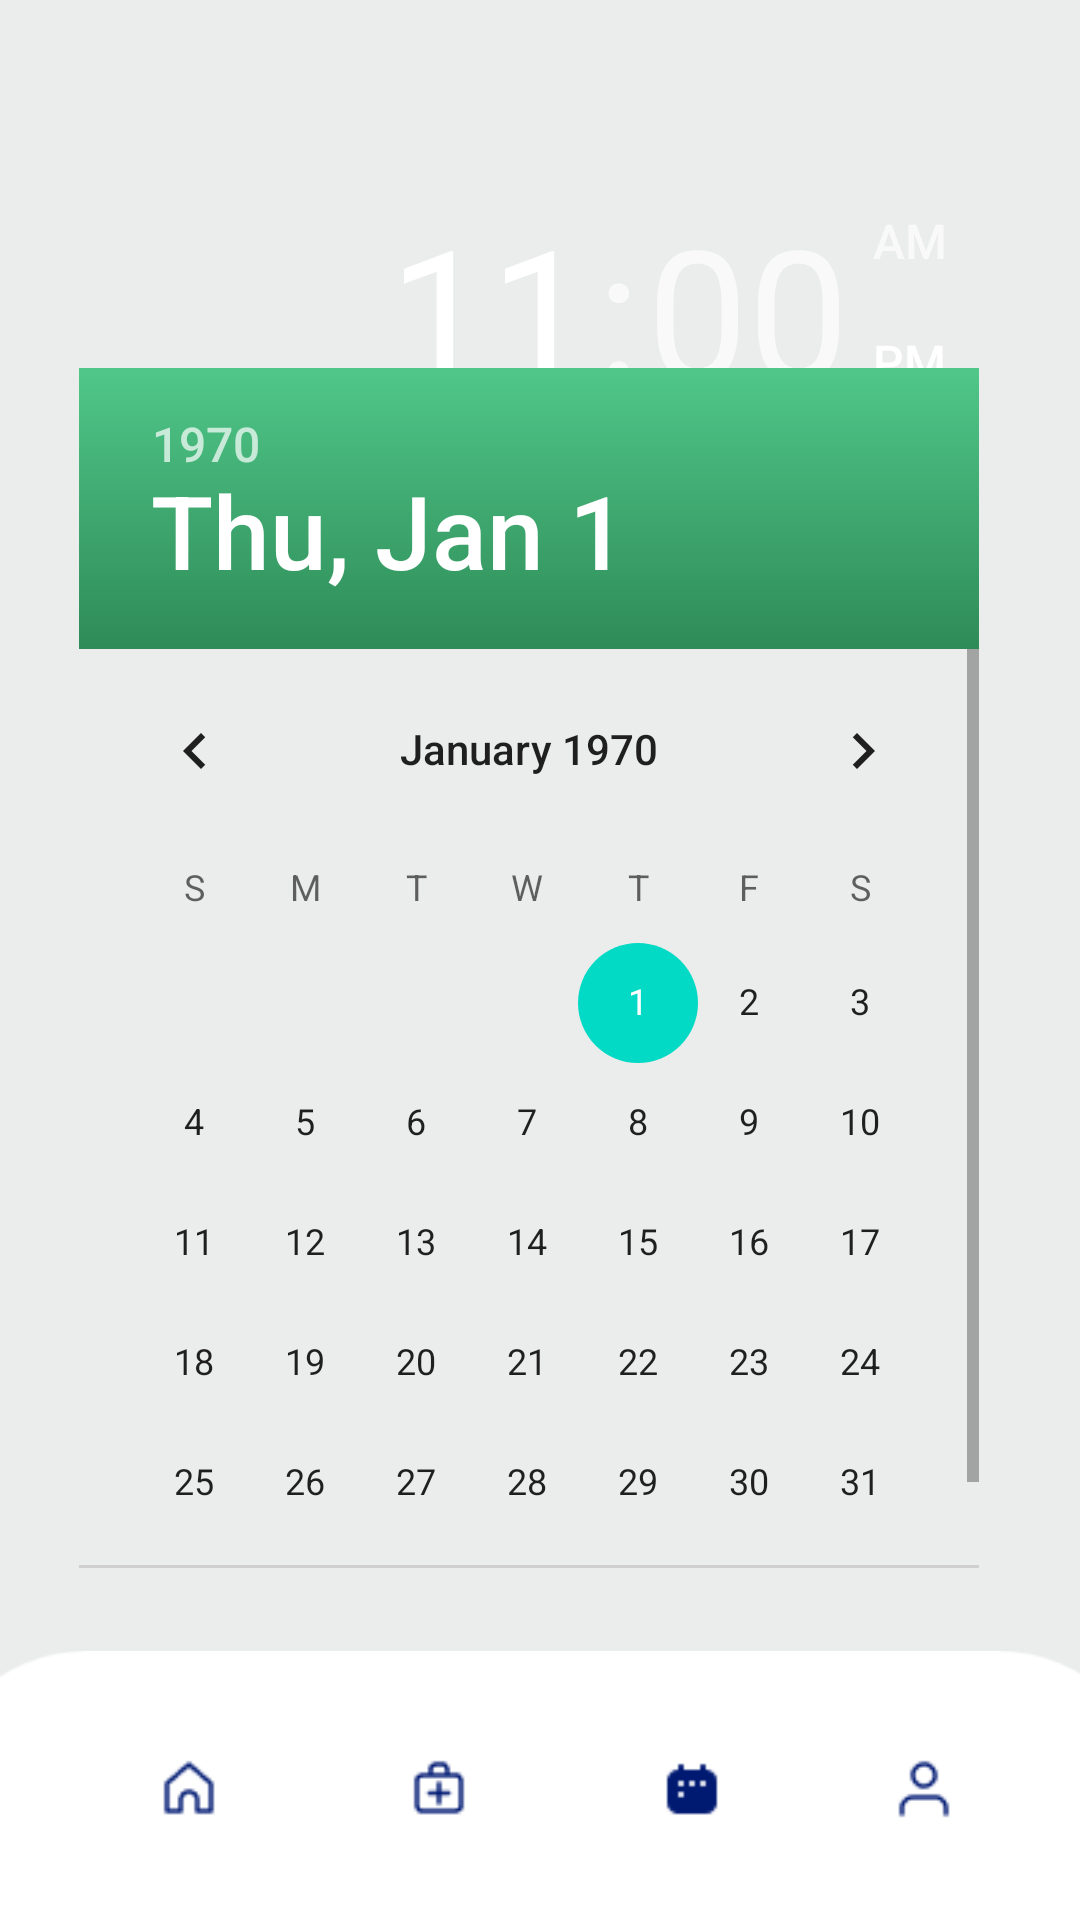

Where to tap for icons on this 1080x1920 app screen, as (x=x, y=y):
fillcalendar: (x=692, y=1789)
home: (x=189, y=1788)
medkit: (x=439, y=1787)
user: (x=924, y=1788)
